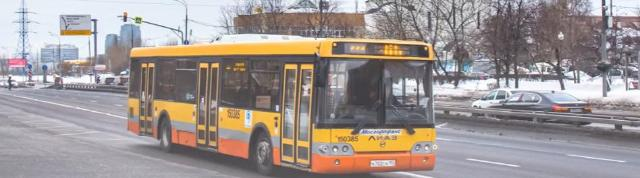bus: (123, 34, 441, 177)
